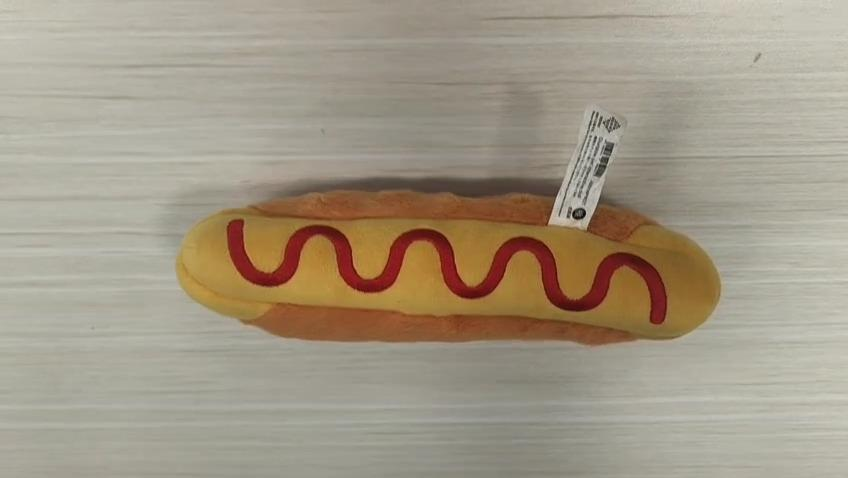hotdog: (175, 187, 721, 346)
